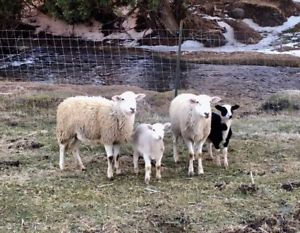sheep: (50, 94, 134, 196), (172, 96, 216, 184), (131, 118, 168, 191), (214, 105, 238, 164)
